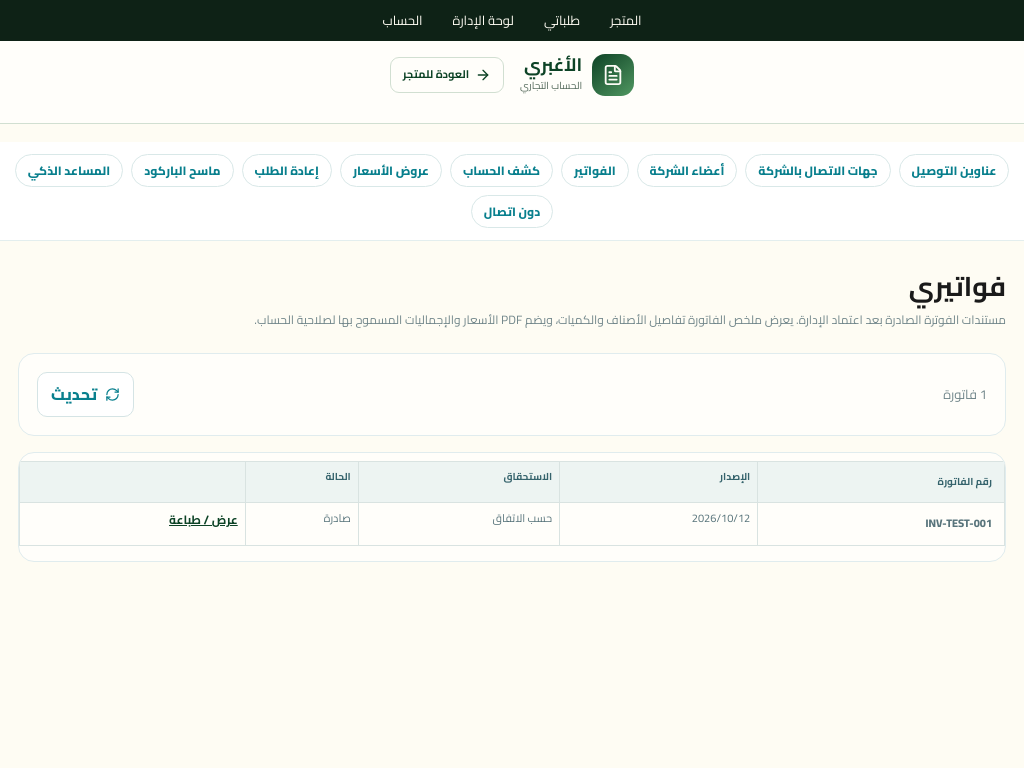
Test case: customer invoices real route acceptance › fails closed and removes detail content when a hidden-finance payload includes protected amounts
The width and height of the screenshot is (1024, 768).
Step 1. Click the button "عرض / طباعة" → coordinates (203, 520), box [169, 510, 238, 530]
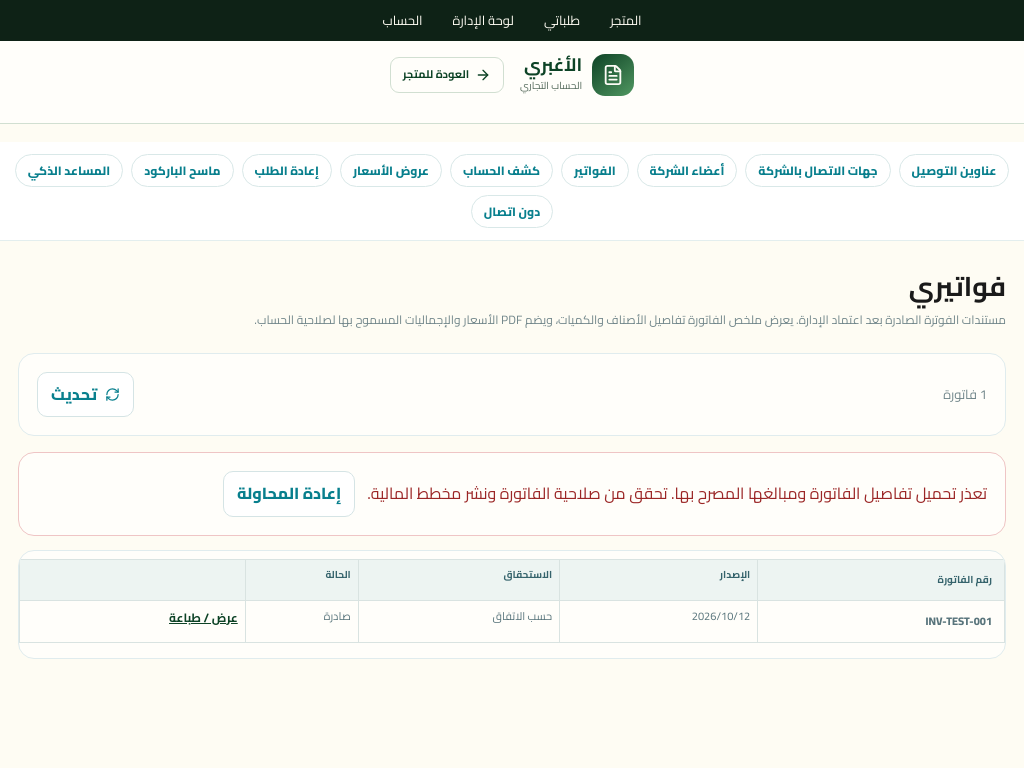
Now the message shows "تعذر تحميل تفاصيل الفاتورة ومبالغها المصرح بها", box [367, 478, 987, 508]
